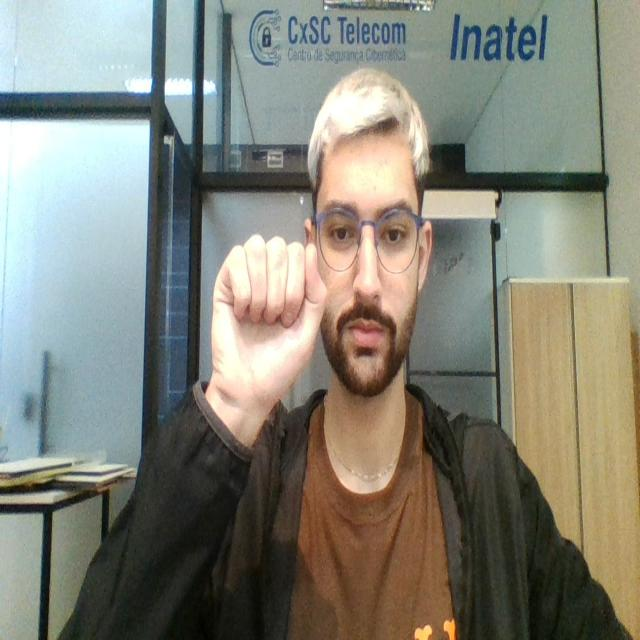A: (207, 231, 331, 393)
